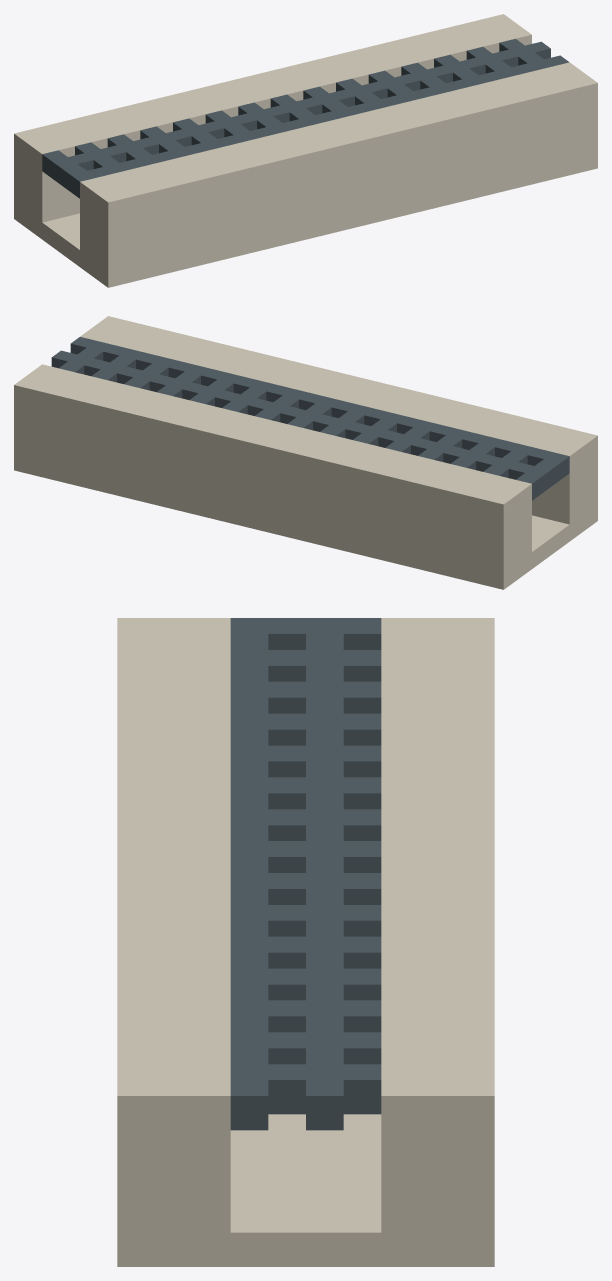
3 renders of one model, top to bottom at view 1: azimuth 30°, elevation 25°; view 2: azimuth 150°, elevation 25°; view 3: azimuth 270°, elevation 25°, orthographic. The views are drawn at different scales.
Visible parts, largest first — view 1: 街台排水边沟与集水边界组件; view 2: 街台排水边沟与集水边界组件; view 3: 街台排水边沟与集水边界组件.
Part boxes in pixels (<box>): 街台排水边沟与集水边界组件: <box>14,14,597,287</box>; 街台排水边沟与集水边界组件: <box>14,316,597,589</box>; 街台排水边沟与集水边界组件: <box>117,618,494,1266</box>.
Bounding box in the file's own units: 6 × 1 × 2.
2 materials, 2 textured.
